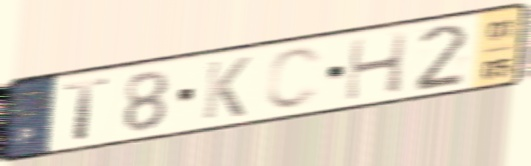2: (409, 22, 472, 95)
8: (123, 67, 171, 135)
C: (262, 44, 326, 113)
H: (342, 29, 411, 104)
K: (199, 54, 254, 122)
T: (62, 75, 113, 143)
